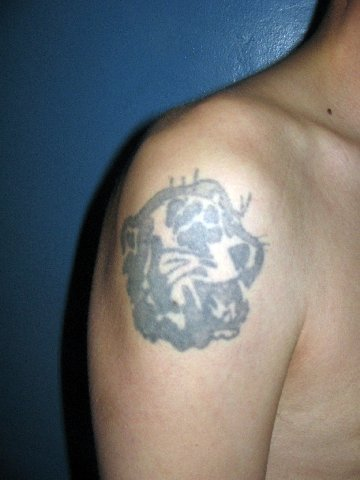tatu5_tigr: (115, 171, 269, 354)
